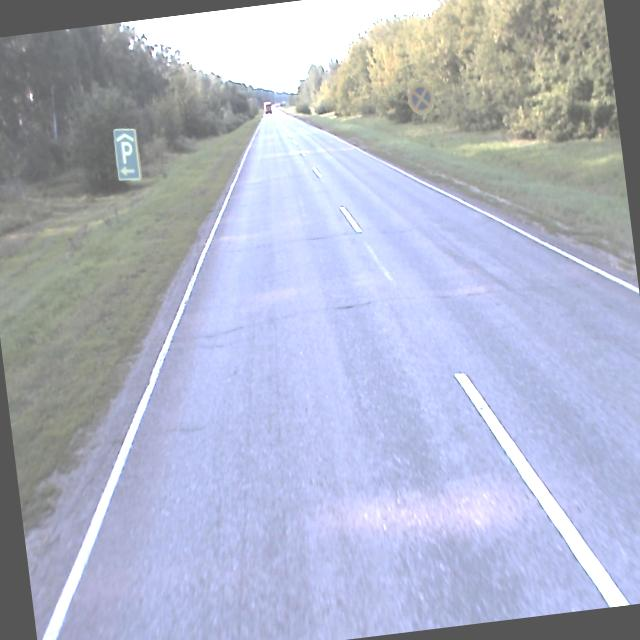road: (33, 110, 640, 640)
